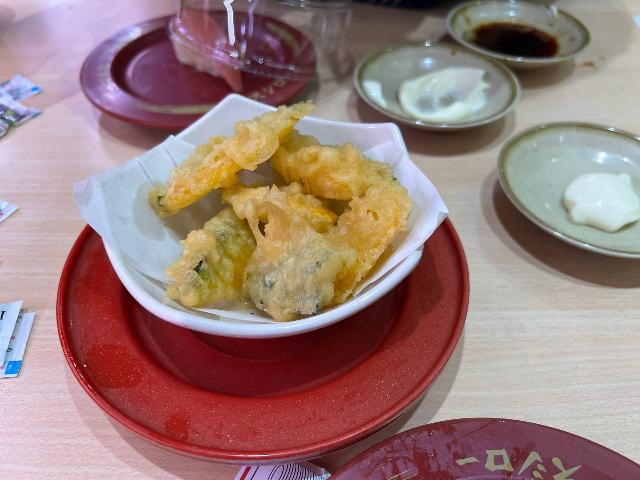janred: (38, 248, 447, 452), (337, 401, 640, 480), (111, 24, 300, 103)
